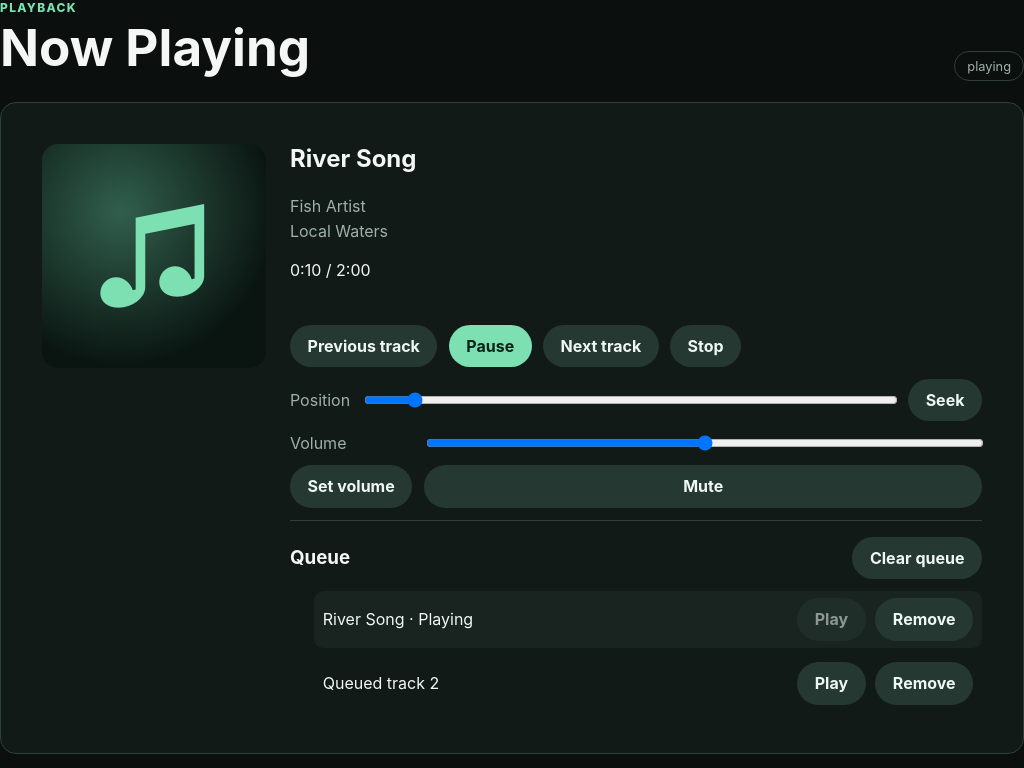
complete playback controls › clears a generic playback error after a successful retry
This screenshot has width=1024, height=768.
Click the button "Stop". click: (706, 346)
box: [670,324,741,367]
(page scrolled)
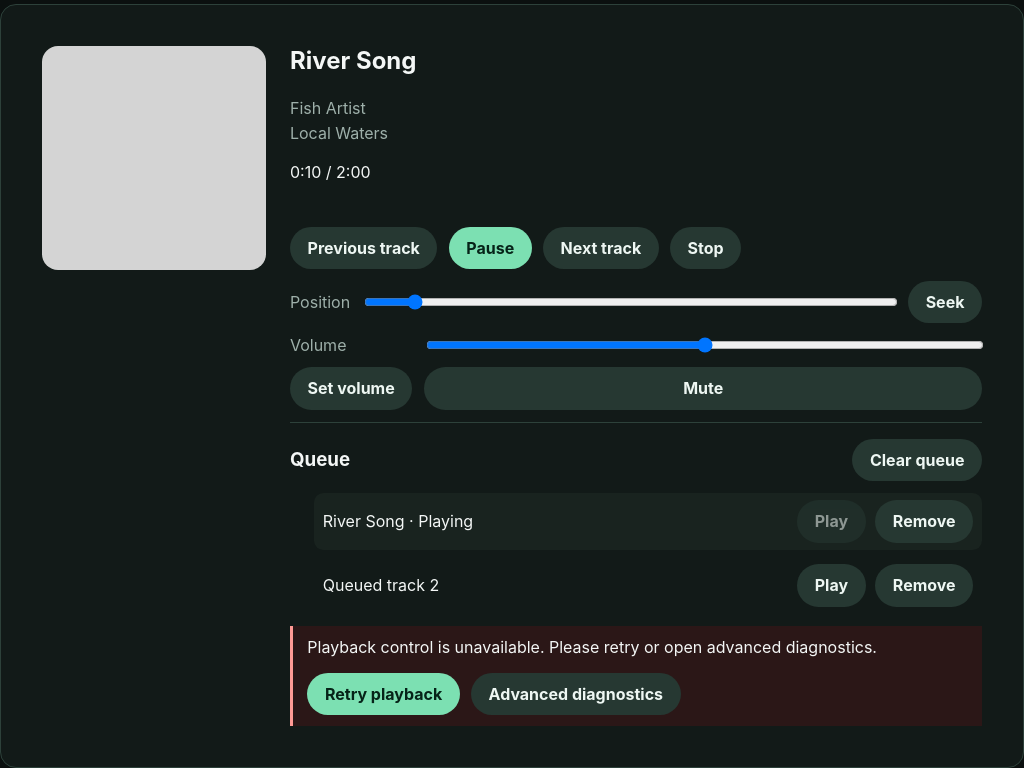
Check: the message shows "Playback control is unavailable", box [307,637,877,657]
Check: the link "Advanced diagnostics" is shown, box [471,673,681,715]
Click the button "Retry playback". click: (384, 694)
box: [307,673,460,715]
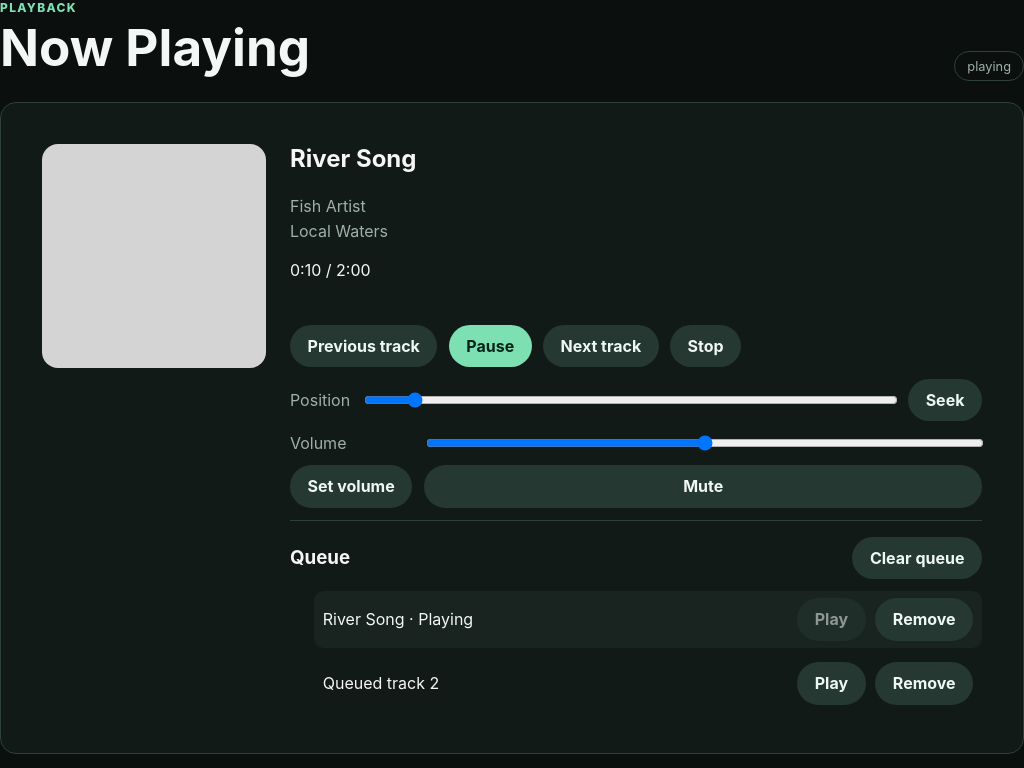
Check: the message is gone
